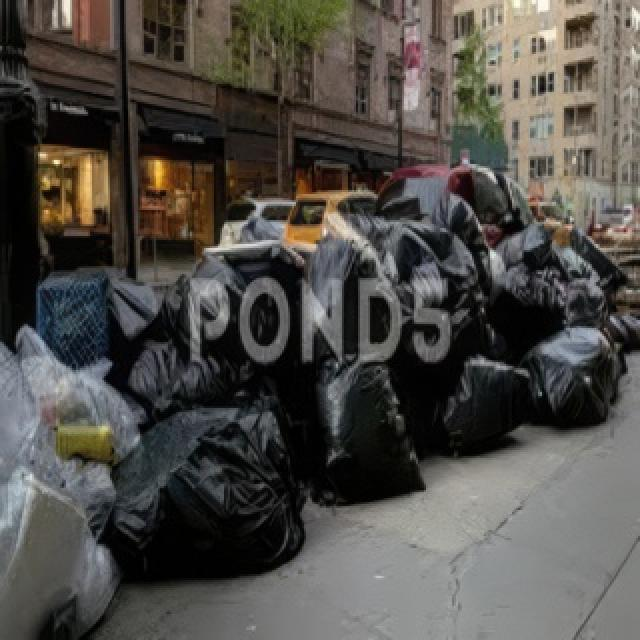Trashbag: (149, 430, 298, 588), (127, 266, 276, 408), (377, 231, 491, 352), (308, 369, 412, 497), (524, 320, 625, 430), (302, 240, 385, 359), (438, 360, 531, 454), (481, 248, 564, 335), (558, 238, 614, 330), (494, 219, 555, 261)
